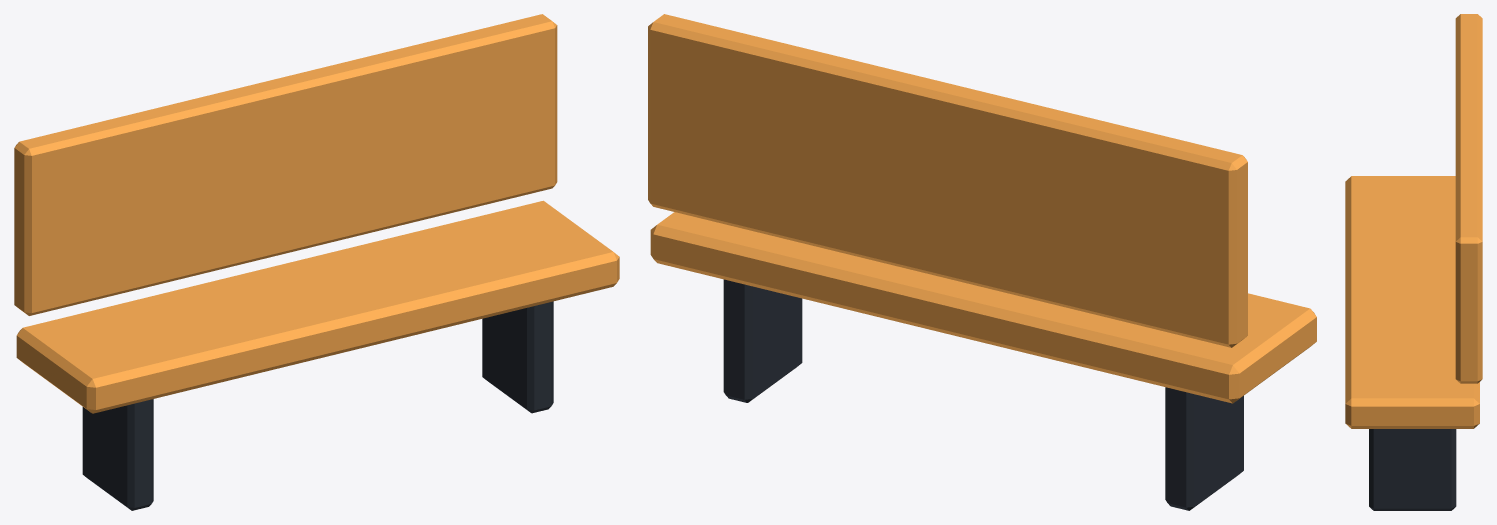
The model's file is bench_a.glb.
3 views of the same model, side by side, from view 1: azimuth 30°, elevation 25°; view 2: azimuth 150°, elevation 25°; view 3: azimuth 270°, elevation 25° (orthographic). The views are drawn at different scales.
Parts seen in each view (by area): view 1: Bench_Back, Bench_Seat, Bench_Leg_-1.5, Bench_Leg_1.5; view 2: Bench_Back, Bench_Seat, Bench_Leg_1.5, Bench_Leg_-1.5; view 3: Bench_Seat, Bench_Back, Bench_Leg_1.5.
Part boxes in pixels (x1,y1,x2,y2): Bench_Back: [14, 14, 557, 315]; Bench_Seat: [16, 200, 619, 413]; Bench_Leg_-1.5: [82, 399, 153, 510]; Bench_Leg_1.5: [482, 301, 553, 413]; Bench_Back: [648, 14, 1247, 347]; Bench_Seat: [650, 212, 1316, 403]; Bench_Leg_1.5: [723, 279, 802, 402]; Bench_Leg_-1.5: [1165, 387, 1243, 510]; Bench_Seat: [1345, 176, 1479, 428]; Bench_Back: [1455, 14, 1482, 383]; Bench_Leg_1.5: [1369, 429, 1456, 510].
Size of the model in its own units: 4 by 2.43 by 1.02.
